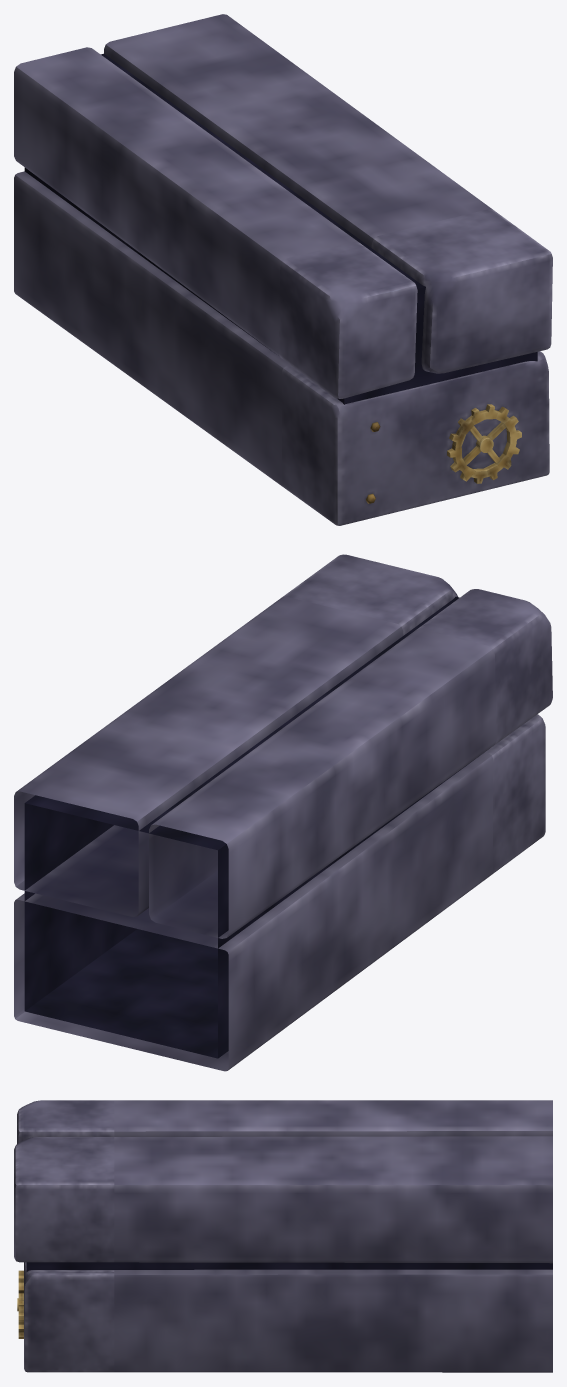
The model's file is Promenade_Fill_C.fbx.
The picture shows the model from 3 angles, top to bottom: view 1: azimuth 30°, elevation 25°; view 2: azimuth 150°, elevation 25°; view 3: azimuth 270°, elevation 25°; orthographic projection. The views are drawn at different scales.
Parts seen in each view (by area): view 1: Promenade_Fill_C; view 2: Promenade_Fill_C; view 3: Promenade_Fill_C.
Boxes of the visible parts, left/top/right/bottom form: Promenade_Fill_C: left=14, top=14, right=552, bottom=525; Promenade_Fill_C: left=14, top=554, right=552, bottom=1071; Promenade_Fill_C: left=14, top=1100, right=552, bottom=1372.
Bounding box in the file's own units: 0.9716 × 0.9775 × 2.52.
